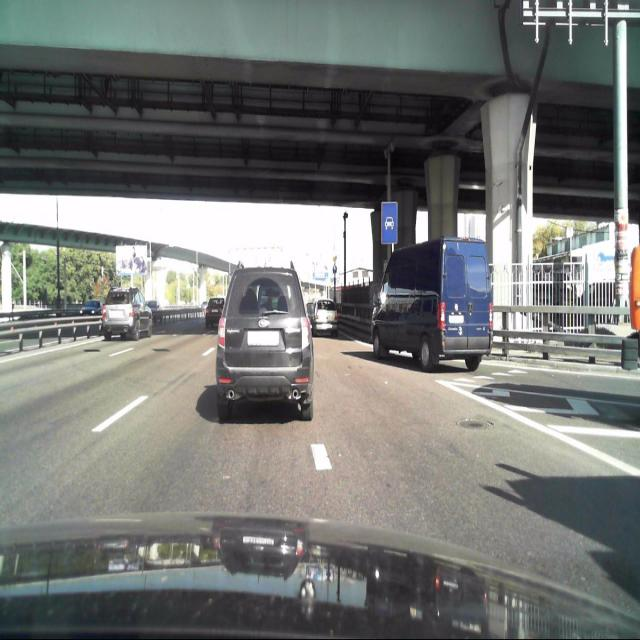road sign: (380, 201, 396, 245)
